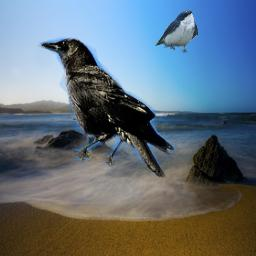Crow: (34, 36, 176, 180)
Swallow: (155, 10, 198, 53)
